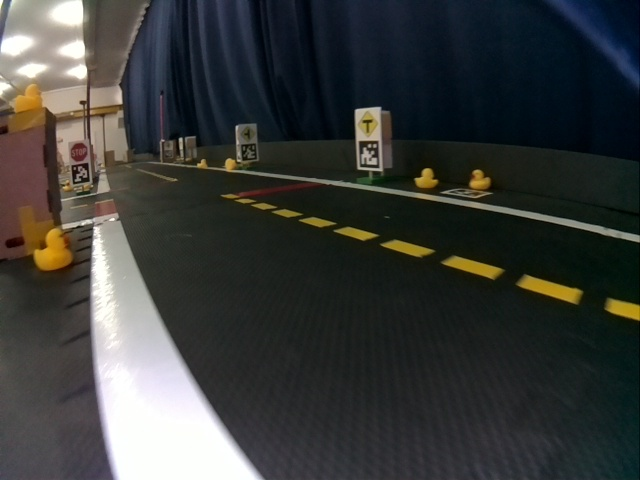Duckie: (34, 230, 73, 270), (16, 87, 42, 112), (414, 169, 436, 188), (470, 169, 491, 186), (63, 180, 73, 192), (225, 161, 236, 169), (197, 160, 207, 168)
Intersection sign: (358, 114, 377, 136), (241, 125, 256, 142)
QR code: (358, 140, 379, 168), (444, 187, 487, 198), (73, 164, 90, 184), (241, 143, 256, 161)
Stop sign: (72, 143, 88, 162)
